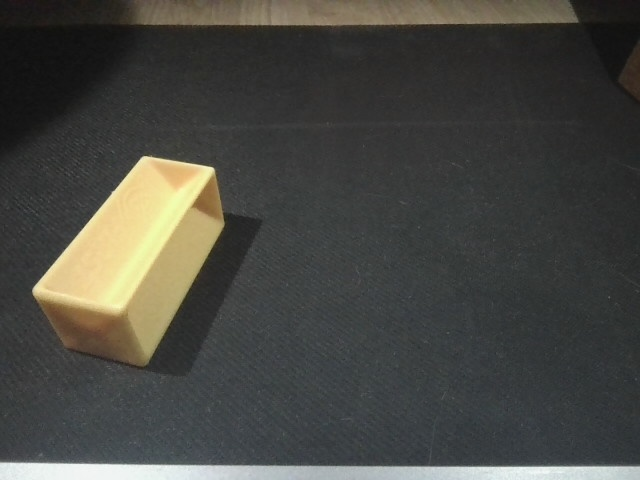YellowSample: (29, 153, 232, 382)
